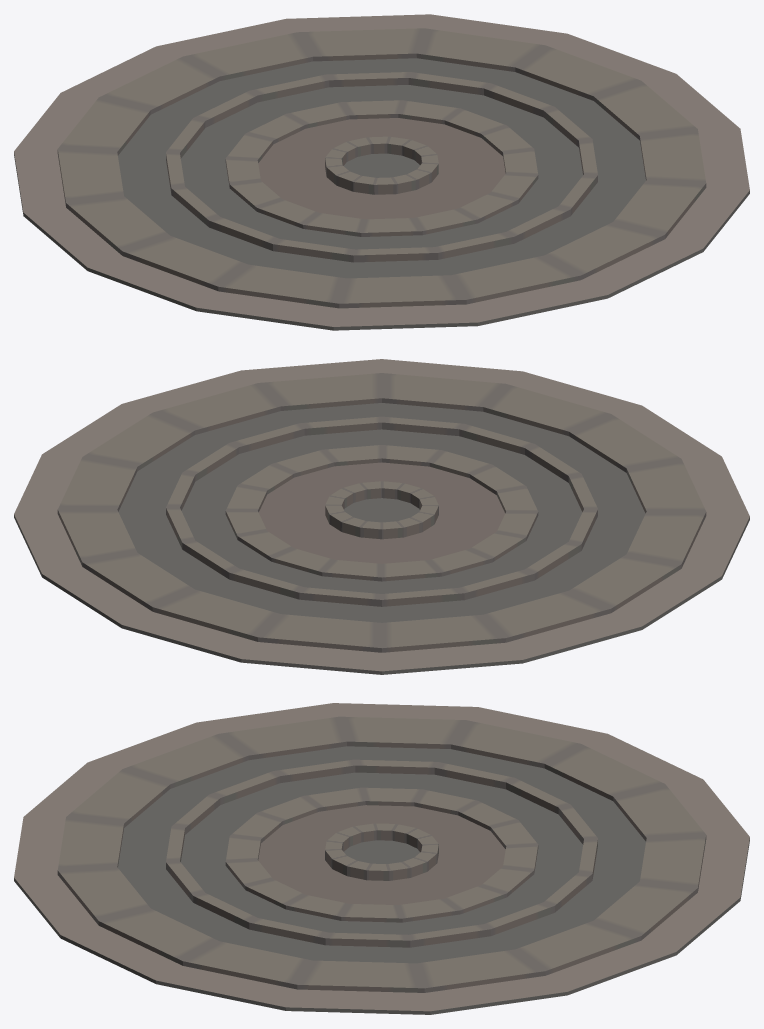
The model's file is SD_Env_StoneCircle_02.fbx.
3 views of the same model, one above another, from view 1: azimuth 30°, elevation 25°; view 2: azimuth 150°, elevation 25°; view 3: azimuth 270°, elevation 25° (orthographic).
Parts seen in each view (by area): view 1: SD_Env_StoneCircle_02; view 2: SD_Env_StoneCircle_02; view 3: SD_Env_StoneCircle_02.
Part boxes in pixels (x1,y1,x2,y2): SD_Env_StoneCircle_02: (14,14,749,330); SD_Env_StoneCircle_02: (14,359,749,674); SD_Env_StoneCircle_02: (14,703,749,1014).
Size of the model in its own units: 9.63 by 0.2181 by 9.63.
